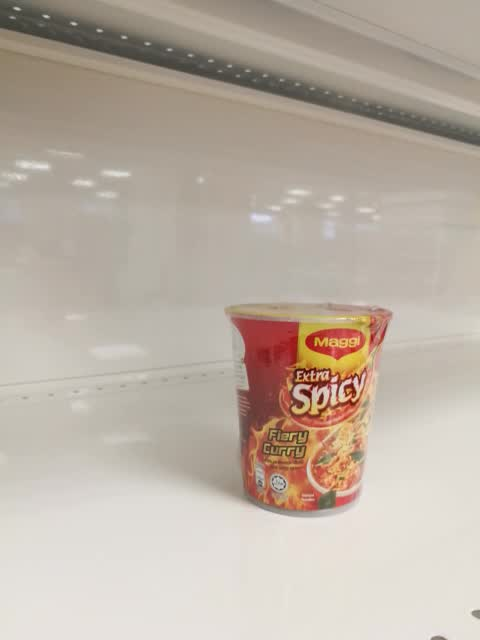maggi: (224, 301, 395, 521)
